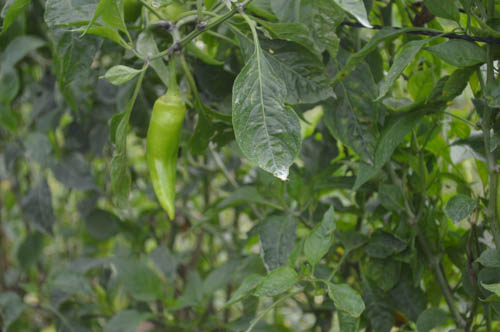ChiliPepper: (148, 96, 184, 223)
